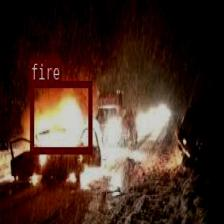fire: (30, 80, 91, 152)
